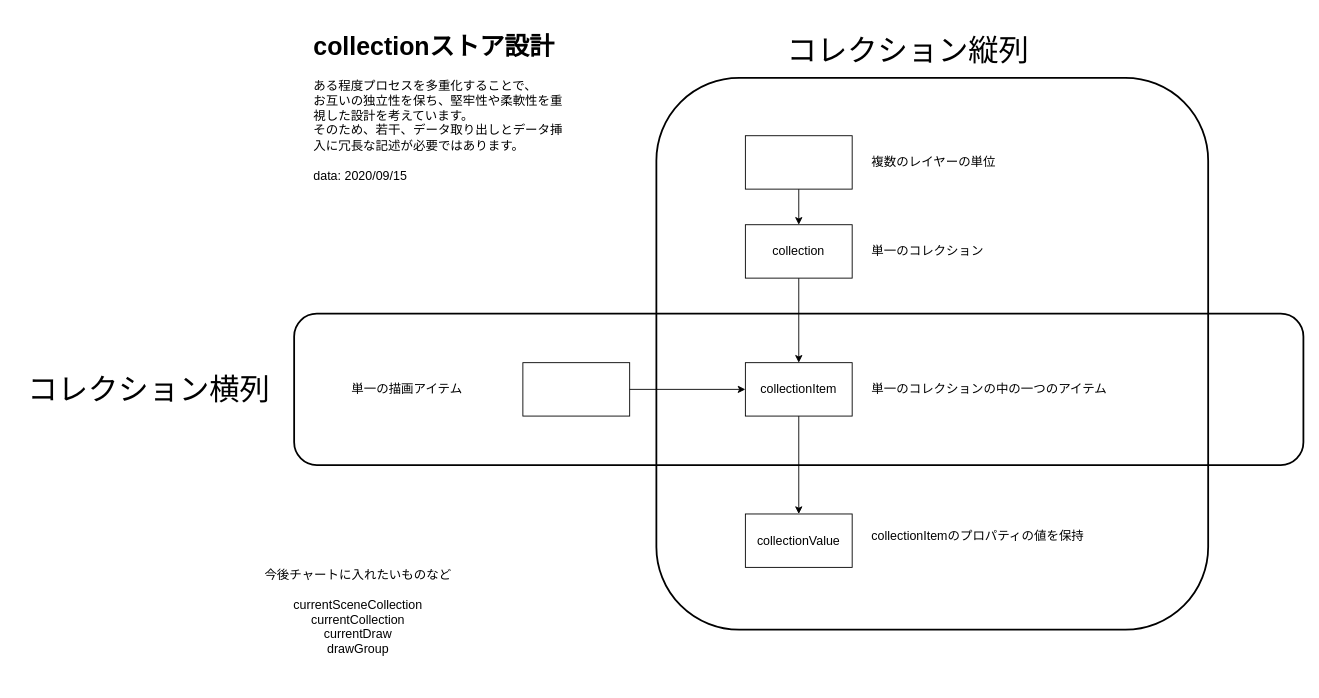
Some shapes in this 1319 by 698 pixel diagram are drawn without their labels. Here are the shapes that lost their labels. From the top down, the box of each, then its label:
(744, 135, 852, 189): sceneCollection
(522, 362, 630, 416): draw
